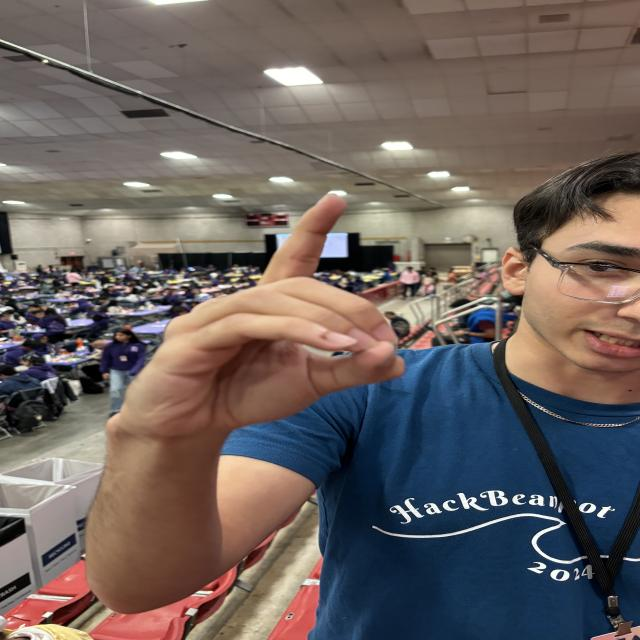D: (110, 181, 406, 425)
